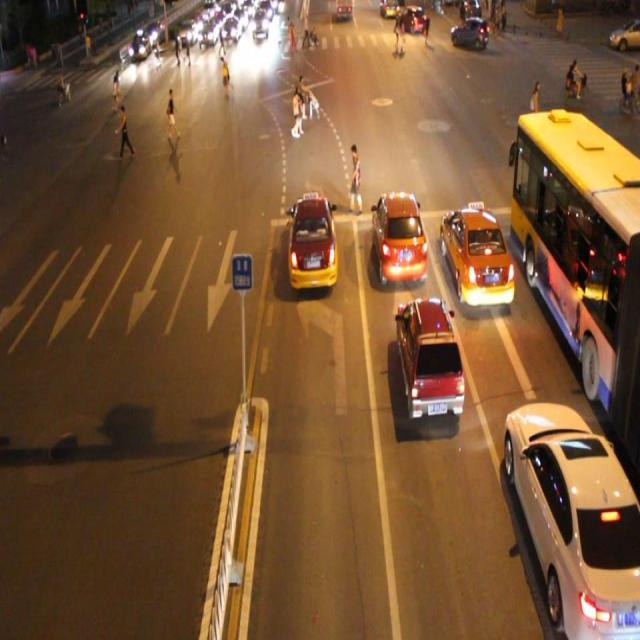car: (502, 399, 640, 640), (395, 297, 466, 422), (440, 204, 518, 308), (373, 192, 429, 288), (287, 192, 340, 289)
van: (511, 116, 640, 468)
